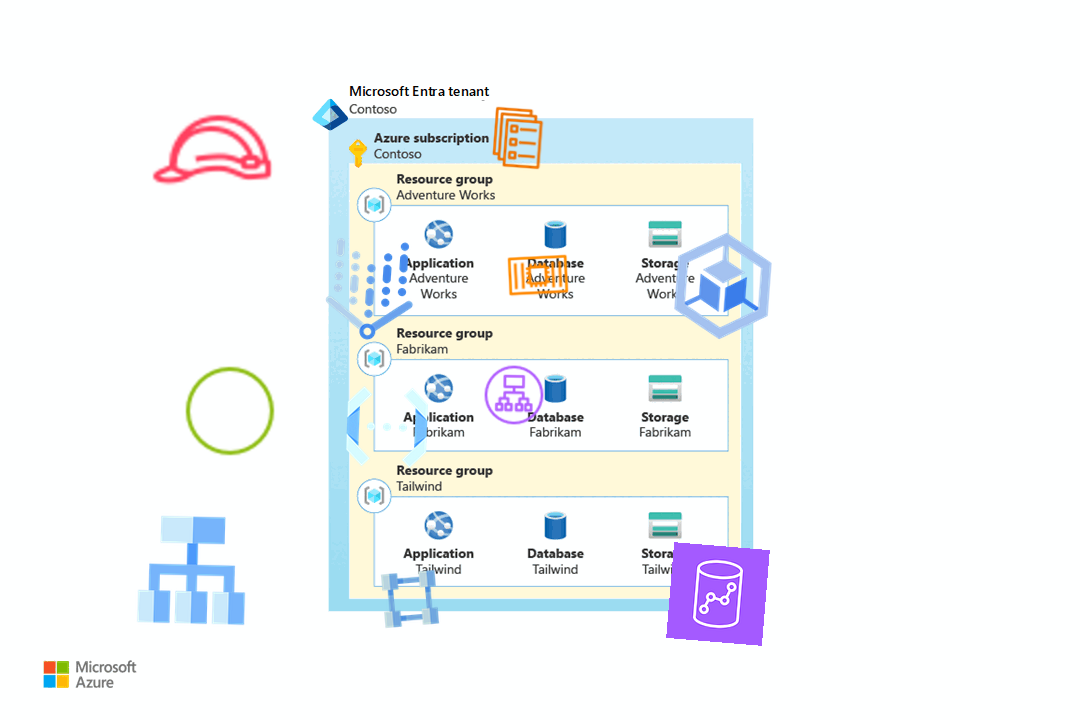aws_amazon_redshift: (666, 542, 770, 646)
aws_elastic_container_service_container_2: (504, 241, 572, 309)
aws_elastic_container_service_service: (483, 103, 553, 173)
aws_elastic_load_balancing_application_load_balancer: (481, 362, 547, 428)
aws_identity_access_management_role: (147, 85, 277, 215)
aws_simple_storage_service_object: (181, 362, 279, 460)
gcp_cloud_functions: (337, 377, 437, 477)
gcp_cloud_load_balancing: (126, 504, 258, 636)
gcp_google_kubernetes_engine: (654, 217, 792, 355)
gcp_vertex_ai: (302, 222, 438, 358)
gcp_virtual_private_cloud: (375, 564, 445, 634)
